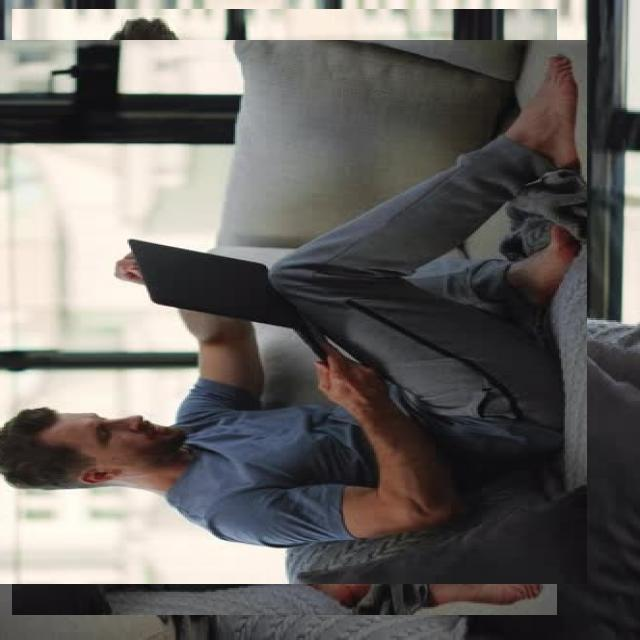NotFall: (0, 128, 640, 569)
